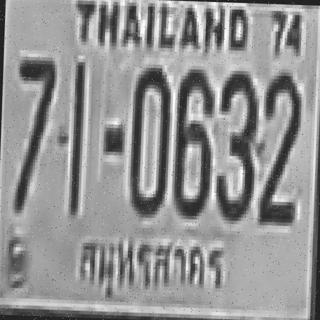N00: (127, 64, 169, 214)
N02: (258, 68, 300, 212)
N03: (213, 68, 258, 219)
N06: (171, 65, 214, 216)
N07: (12, 54, 55, 206), (13, 56, 55, 187), (14, 56, 55, 153)
P58: (70, 230, 232, 302)
